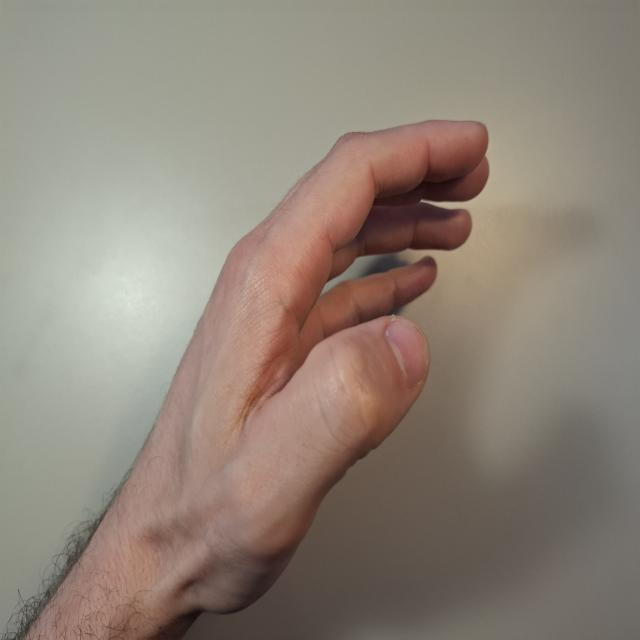glove_off: (141, 116, 491, 617)
